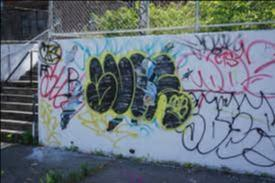graffiti: (86, 56, 192, 128), (183, 89, 275, 166), (36, 42, 85, 126), (183, 48, 268, 93), (195, 33, 246, 53)
